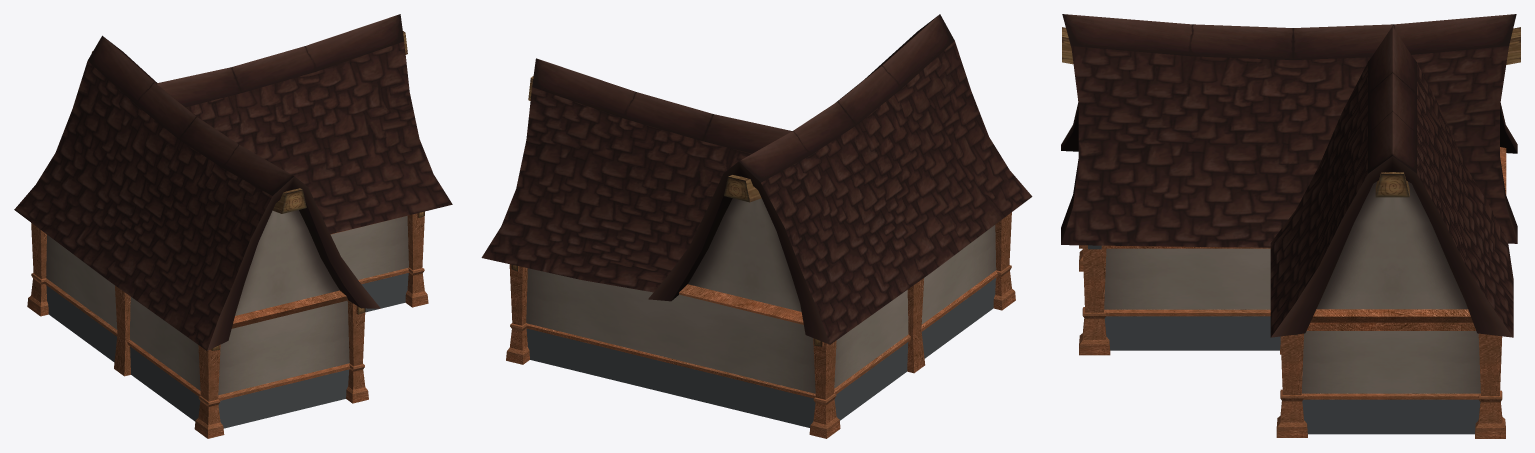
The model's file is fanasty_mod_L_house.fbx.
3 renders of one model, left to right at view 1: azimuth 30°, elevation 25°; view 2: azimuth 150°, elevation 25°; view 3: azimuth 270°, elevation 25°, orthographic. The views are drawn at different scales.
Visible parts, largest first — view 1: L_house; view 2: L_house; view 3: L_house.
Boxes of the visible parts, x1,y1,x2,y2 form: L_house: (14, 14, 452, 438); L_house: (481, 14, 1032, 438); L_house: (1061, 14, 1520, 438).
Bounding box in the file's own units: 12.51 × 8.89 × 12.59.
